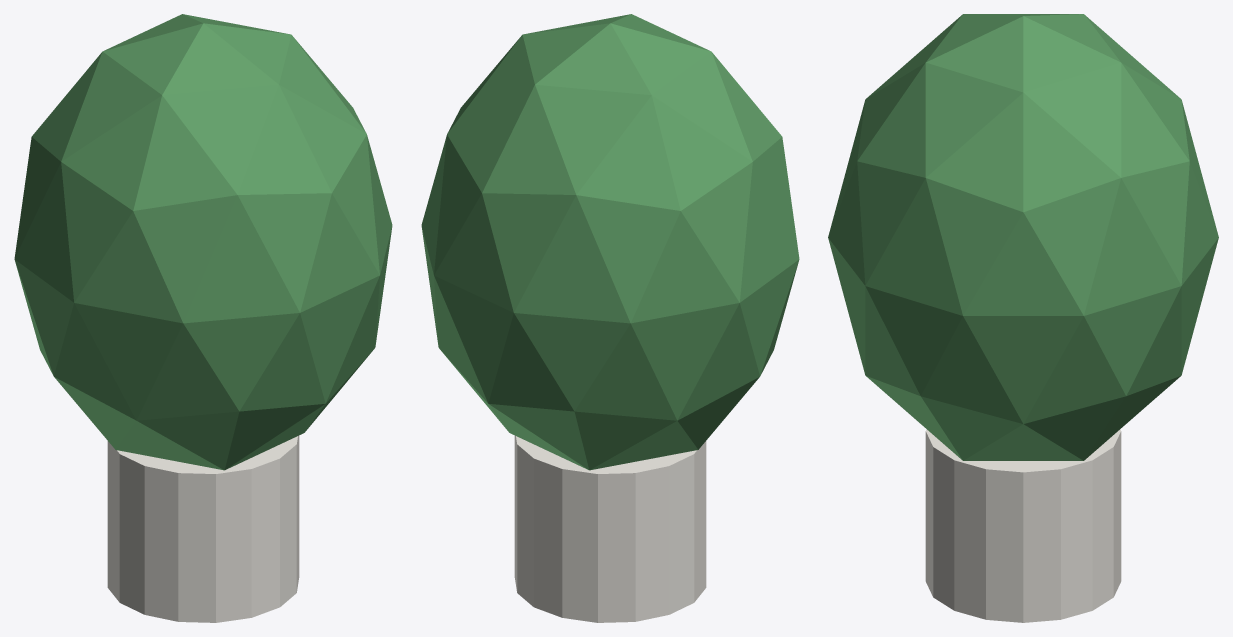
File: pot-plant-1_final-optimized.glb
3 views of the same model, side by side, from view 1: azimuth 30°, elevation 25°; view 2: azimuth 150°, elevation 25°; view 3: azimuth 270°, elevation 25° (orthographic).
Parts seen in each view (by area): view 1: Plant_Foliage, Plant_Pot; view 2: Plant_Foliage, Plant_Pot; view 3: Plant_Foliage, Plant_Pot.
Part boxes in pixels (left/top/right/bottom): Plant_Foliage: left=14, top=14, right=392, bottom=470; Plant_Pot: left=107, top=435, right=299, bottom=622; Plant_Foliage: left=421, top=14, right=799, bottom=470; Plant_Pot: left=514, top=435, right=706, bottom=622; Plant_Foliage: left=828, top=14, right=1218, bottom=460; Plant_Pot: left=925, top=429, right=1121, bottom=622.
Bounding box in the file's own units: 0.7608 × 1.28 × 0.8.
